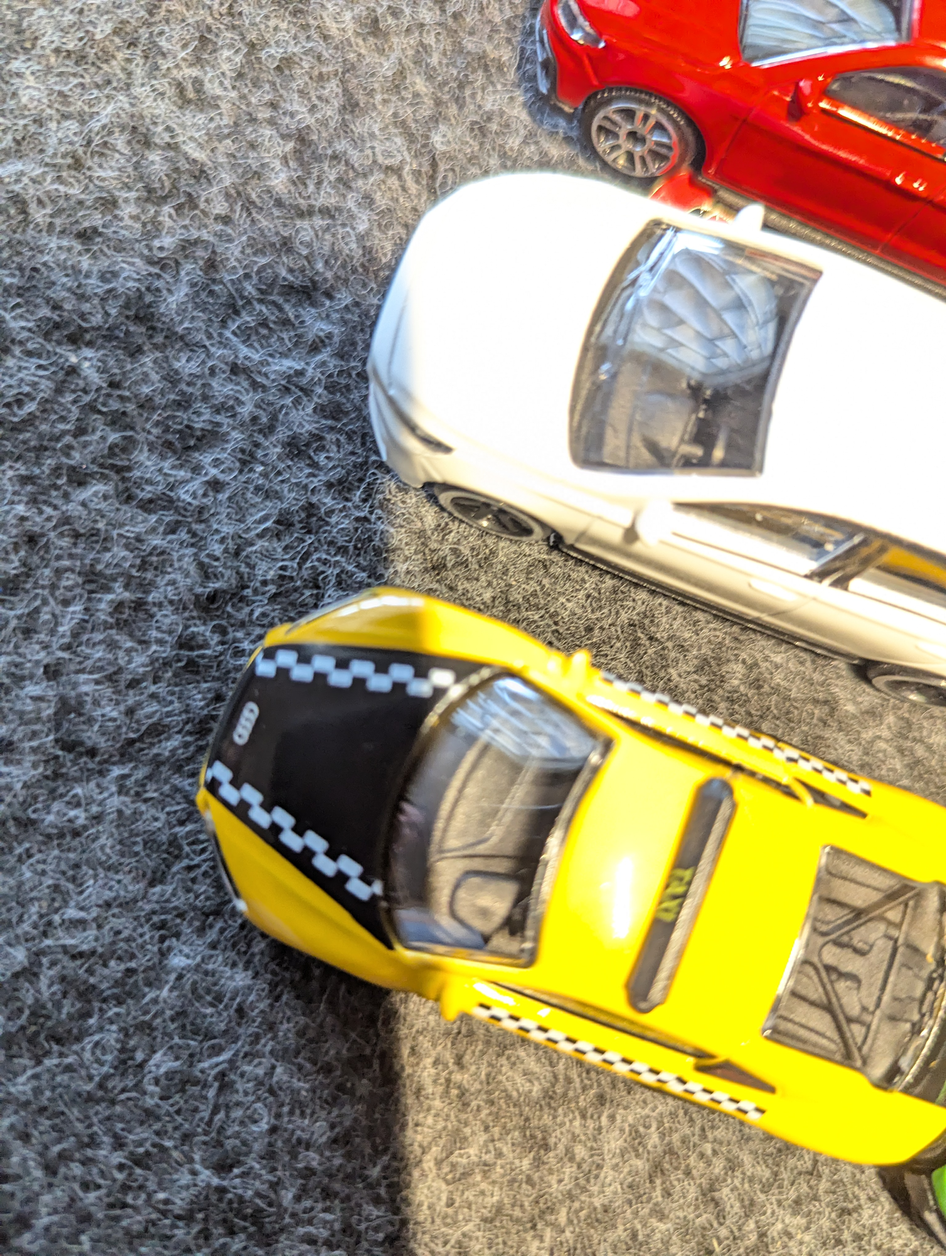Car: (154, 519, 946, 1220), (325, 133, 946, 751), (471, 0, 946, 289)
